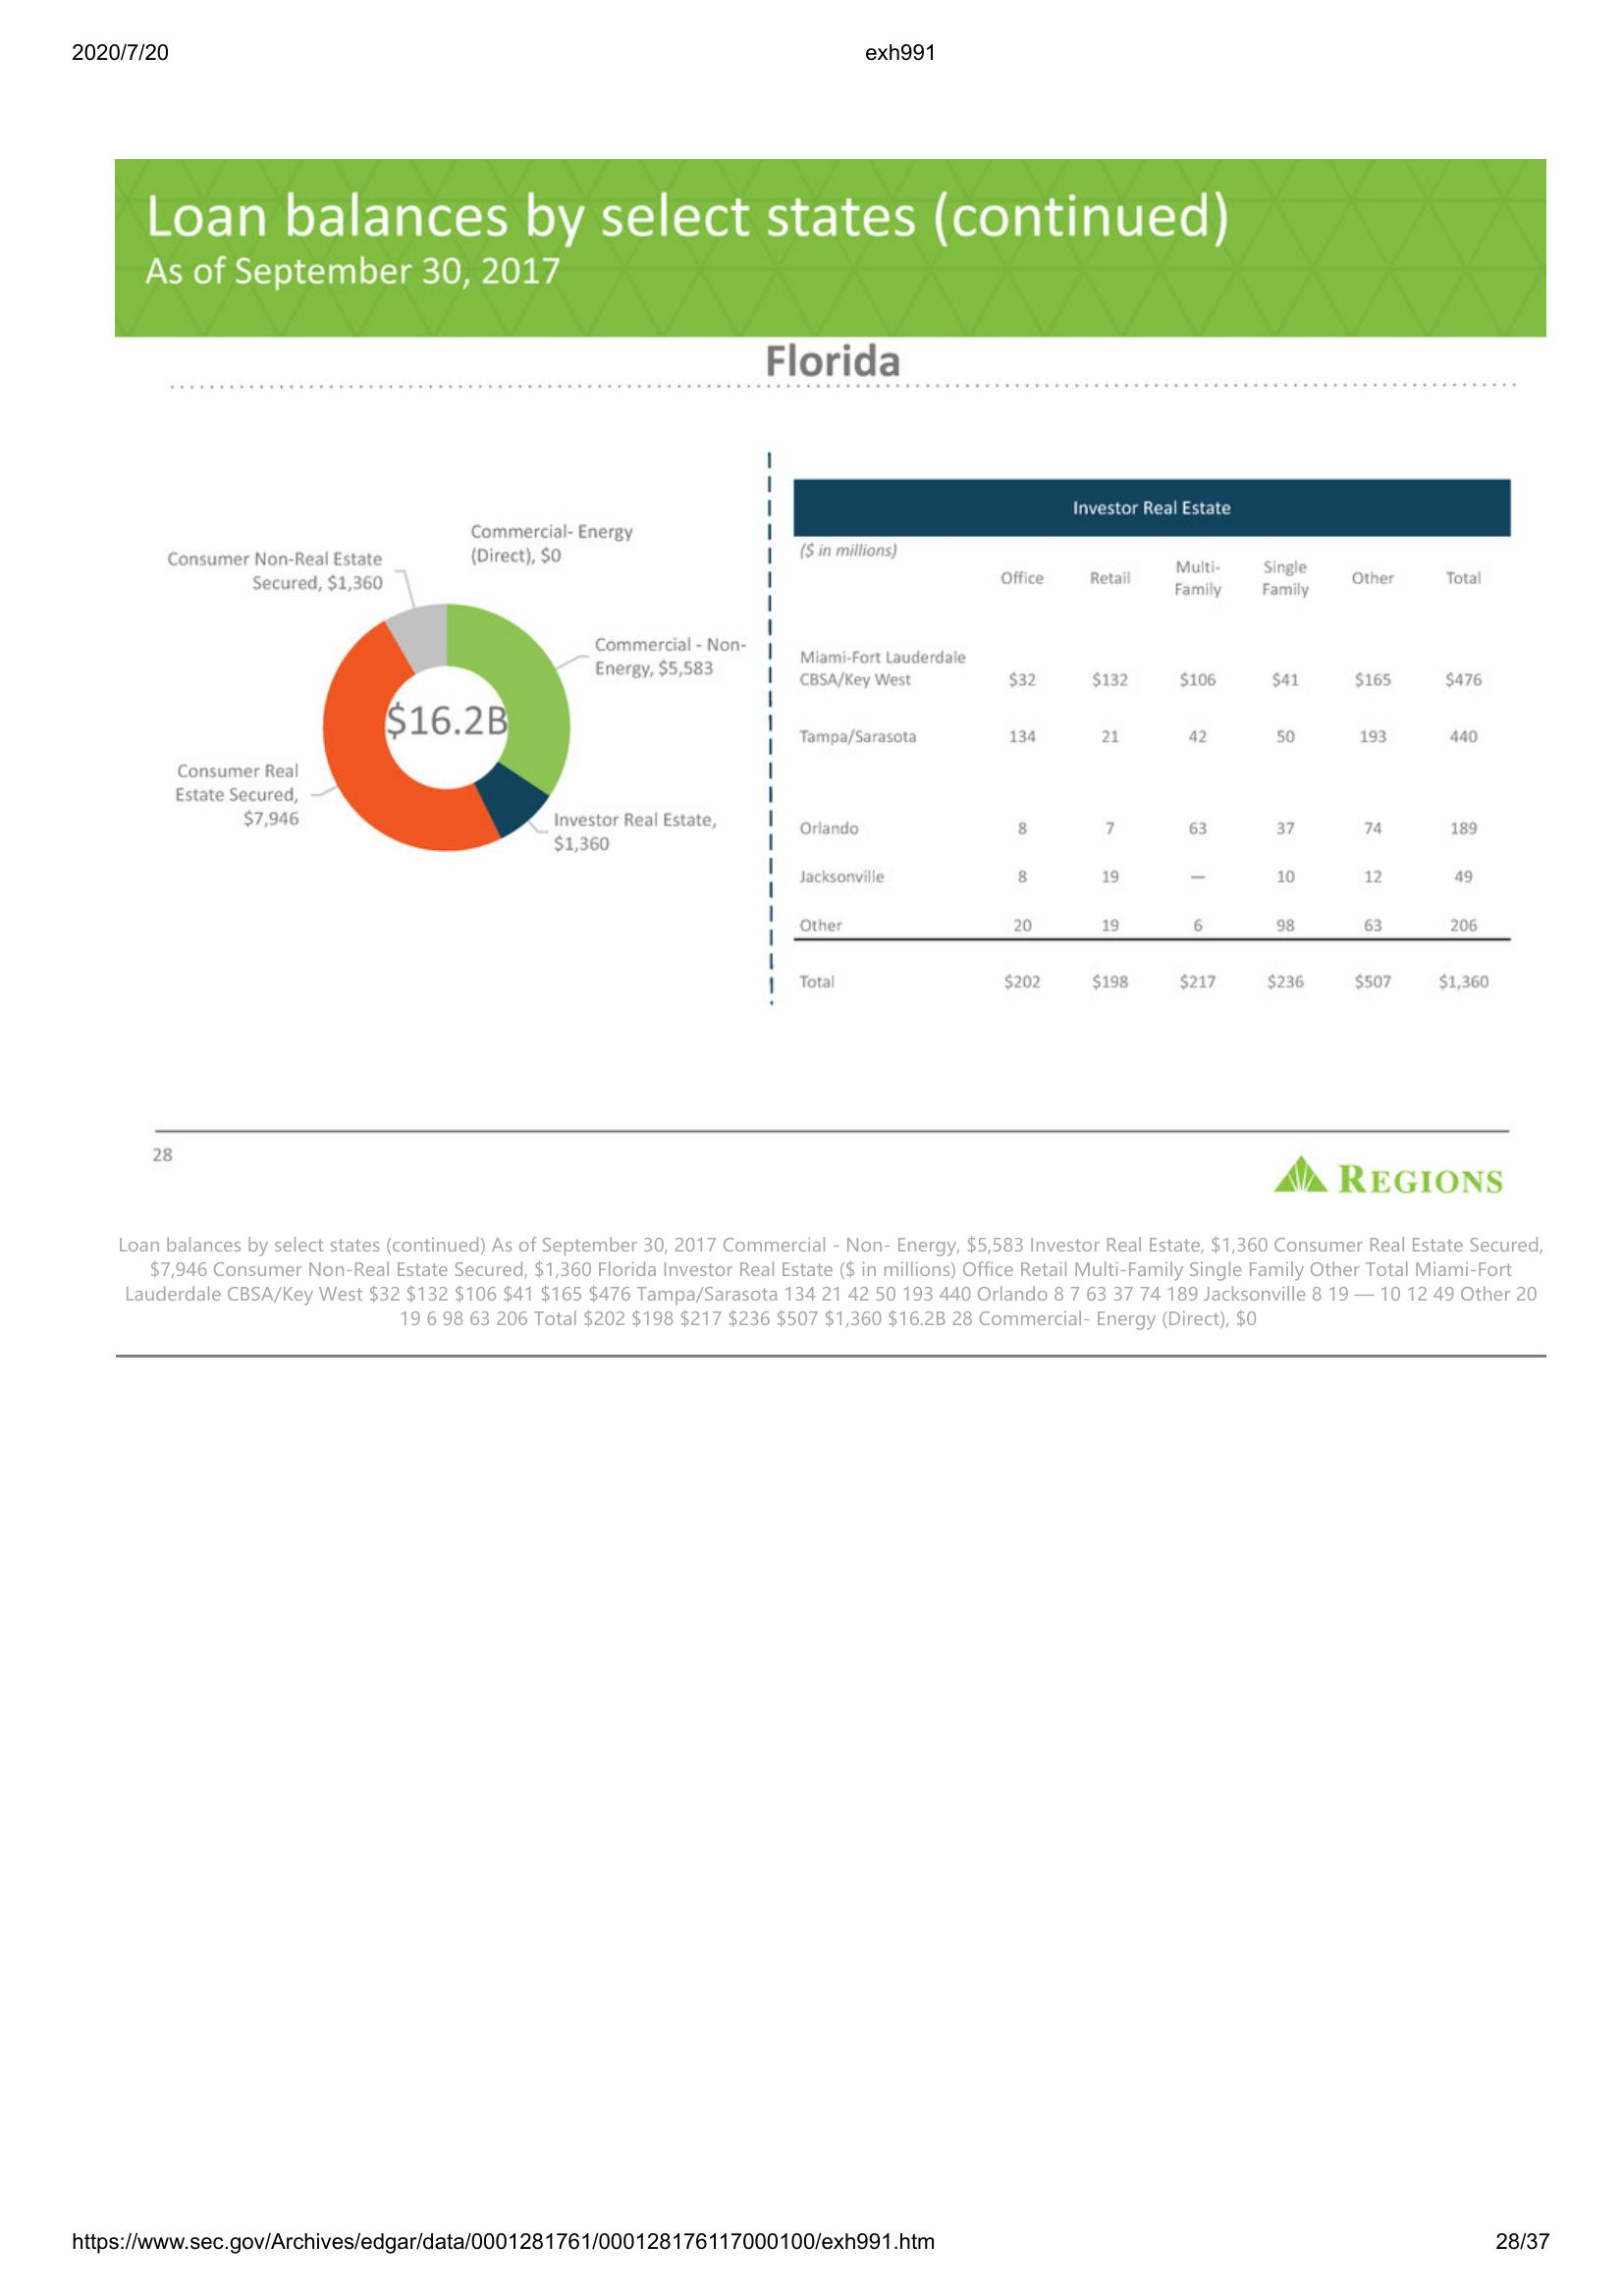table: (787, 472, 1521, 1009)
